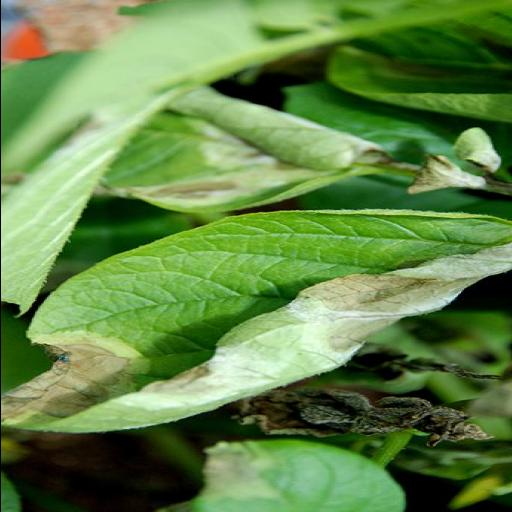Late Blight: (0, 205, 510, 440)
